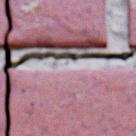brick: (127, 0, 135, 49)
broken_brick: (8, 70, 135, 135), (8, 0, 107, 49), (0, 0, 7, 48), (0, 70, 5, 135)
crack: (2, 0, 134, 135)
